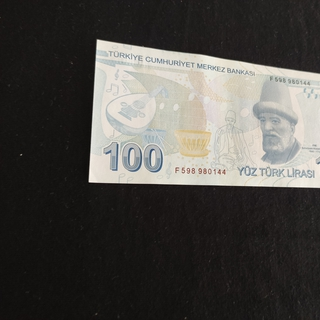100TLBack: (88, 38, 320, 190)
